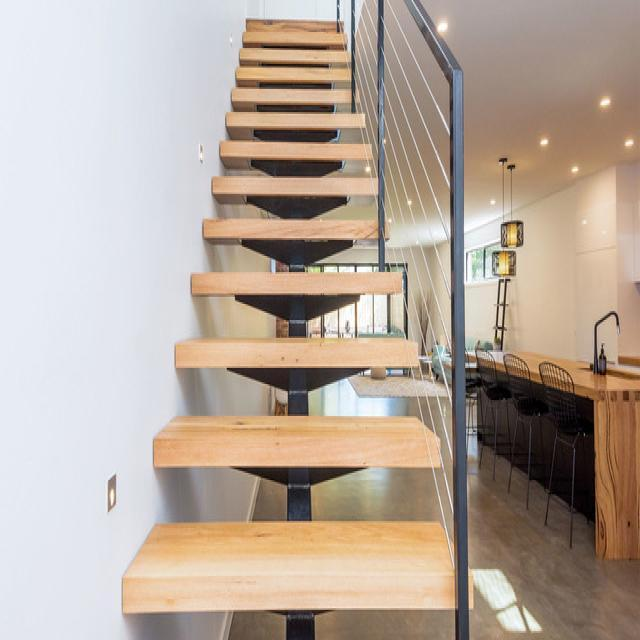stairs: (121, 11, 474, 636)
